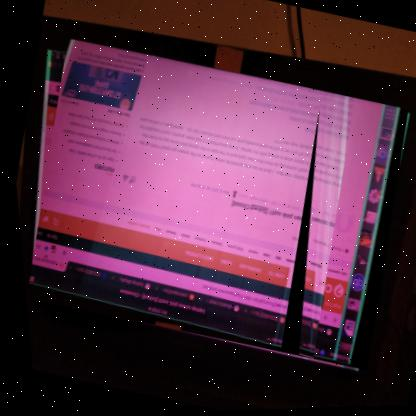fade: (2, 28, 415, 383)
lines: (255, 98, 369, 362)
